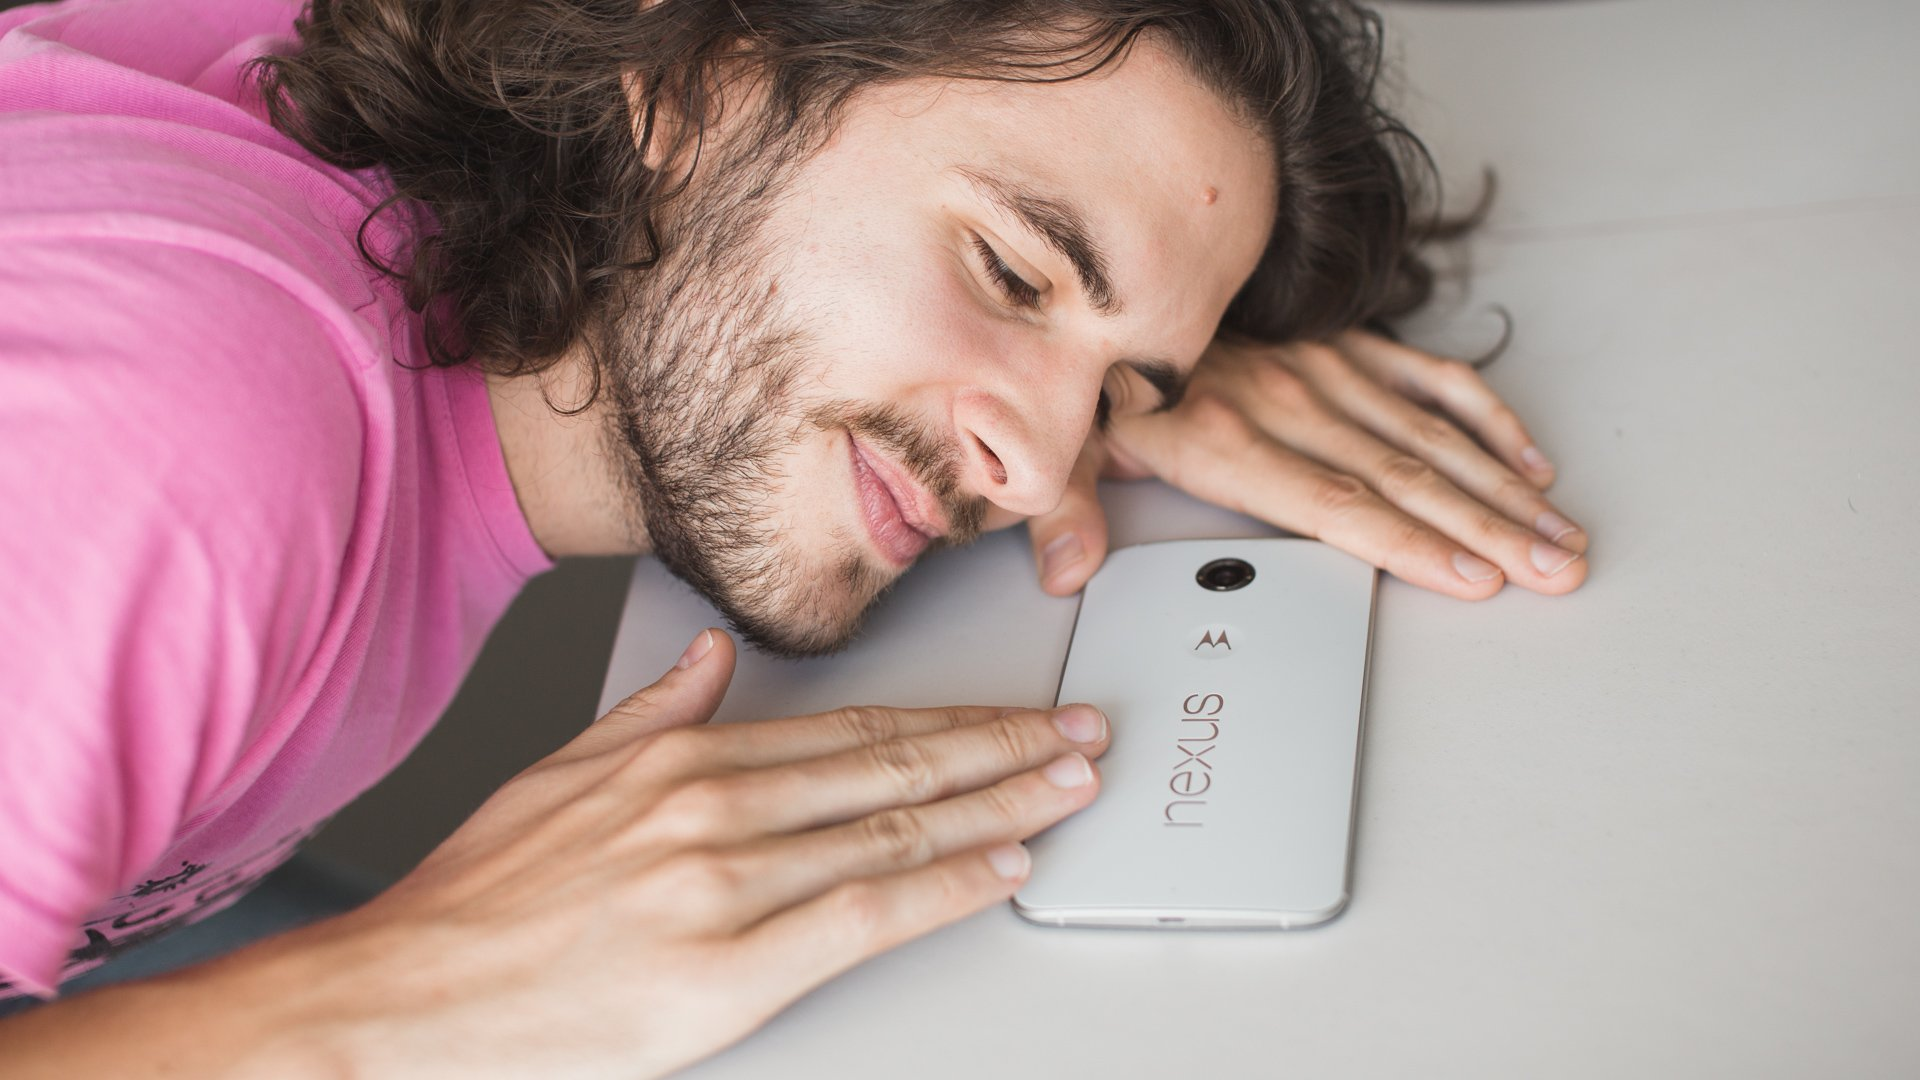smartphone: (1007, 535, 1381, 936)
